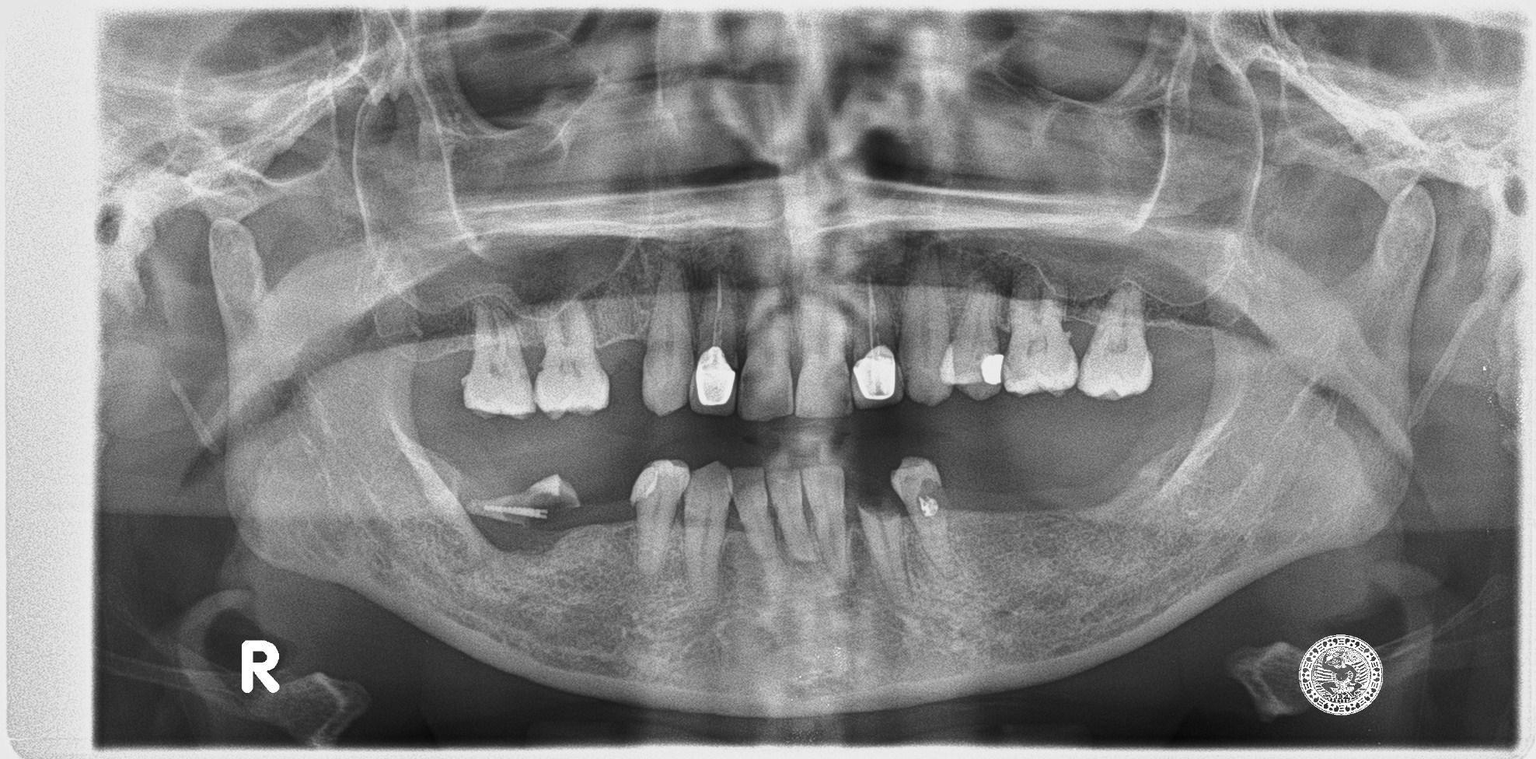Individual Tooth: (535, 300, 609, 418), (1078, 283, 1152, 399), (899, 252, 954, 406), (891, 456, 958, 579), (463, 303, 535, 417), (738, 289, 792, 421), (688, 285, 742, 415), (939, 290, 1004, 398), (793, 296, 850, 418), (1005, 299, 1077, 395), (630, 460, 689, 575), (642, 285, 694, 415), (683, 462, 731, 601), (849, 286, 902, 408), (802, 465, 847, 577), (766, 468, 815, 562), (733, 468, 778, 566), (860, 504, 908, 594)
